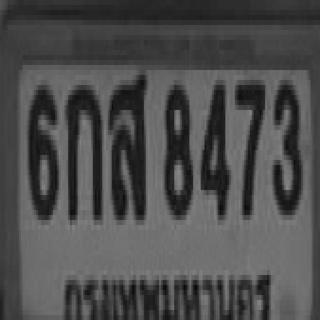A01: (64, 80, 100, 215)
A40: (108, 70, 144, 215)
N03: (271, 75, 299, 210)
N04: (199, 75, 227, 215)
N06: (27, 80, 57, 215)
N07: (233, 75, 263, 215)
N08: (163, 80, 191, 215)
